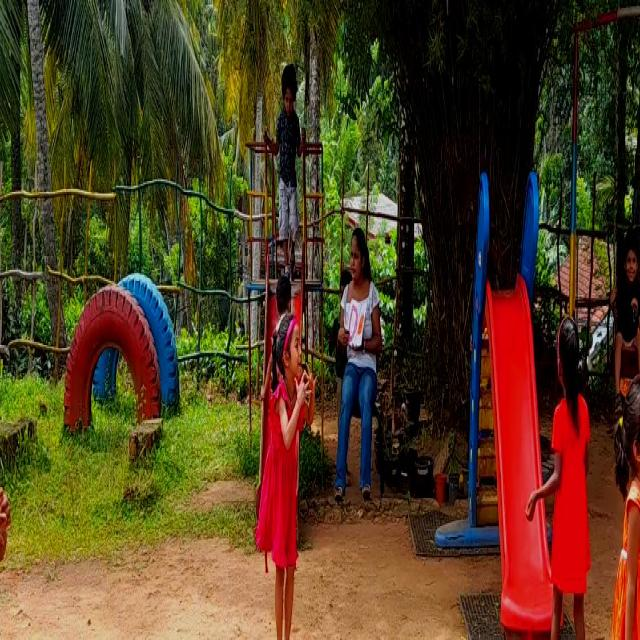adult: (330, 225, 385, 496)
child: (535, 306, 598, 640), (259, 312, 311, 640), (0, 353, 47, 640), (609, 387, 640, 640), (268, 58, 303, 279), (609, 221, 640, 373)
